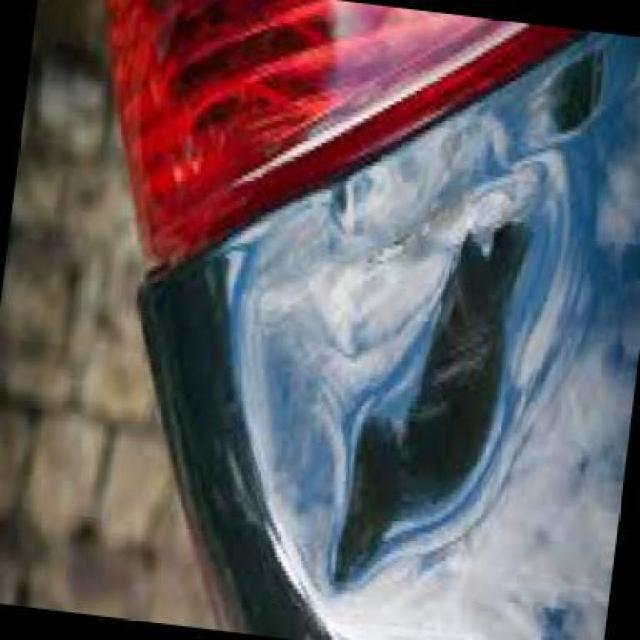dent: (237, 209, 514, 592)
